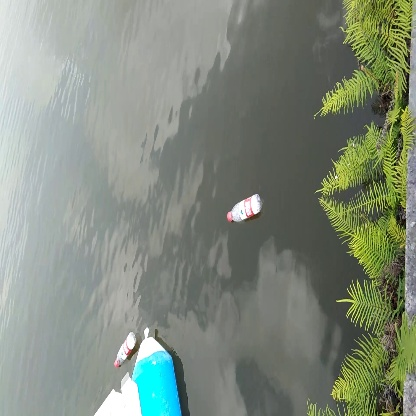bottle: (225, 190, 266, 227)
